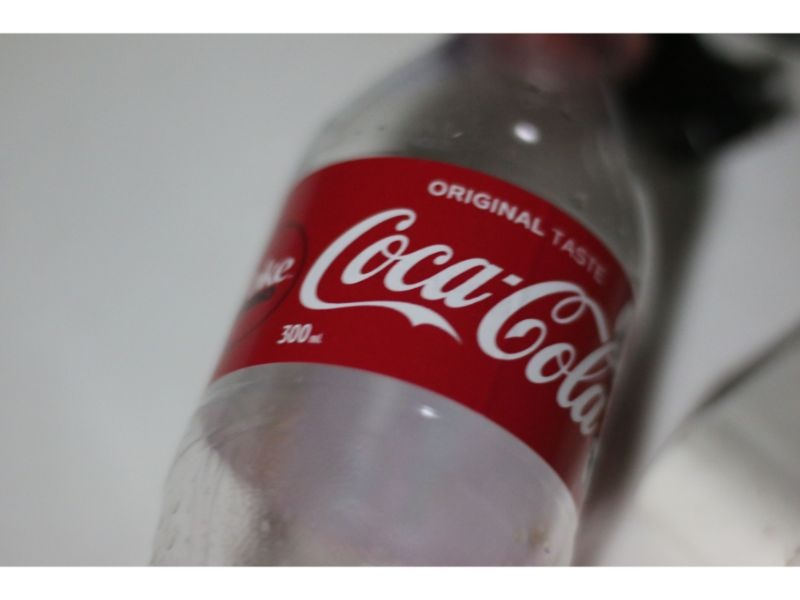PET #1: (138, 37, 653, 564)
